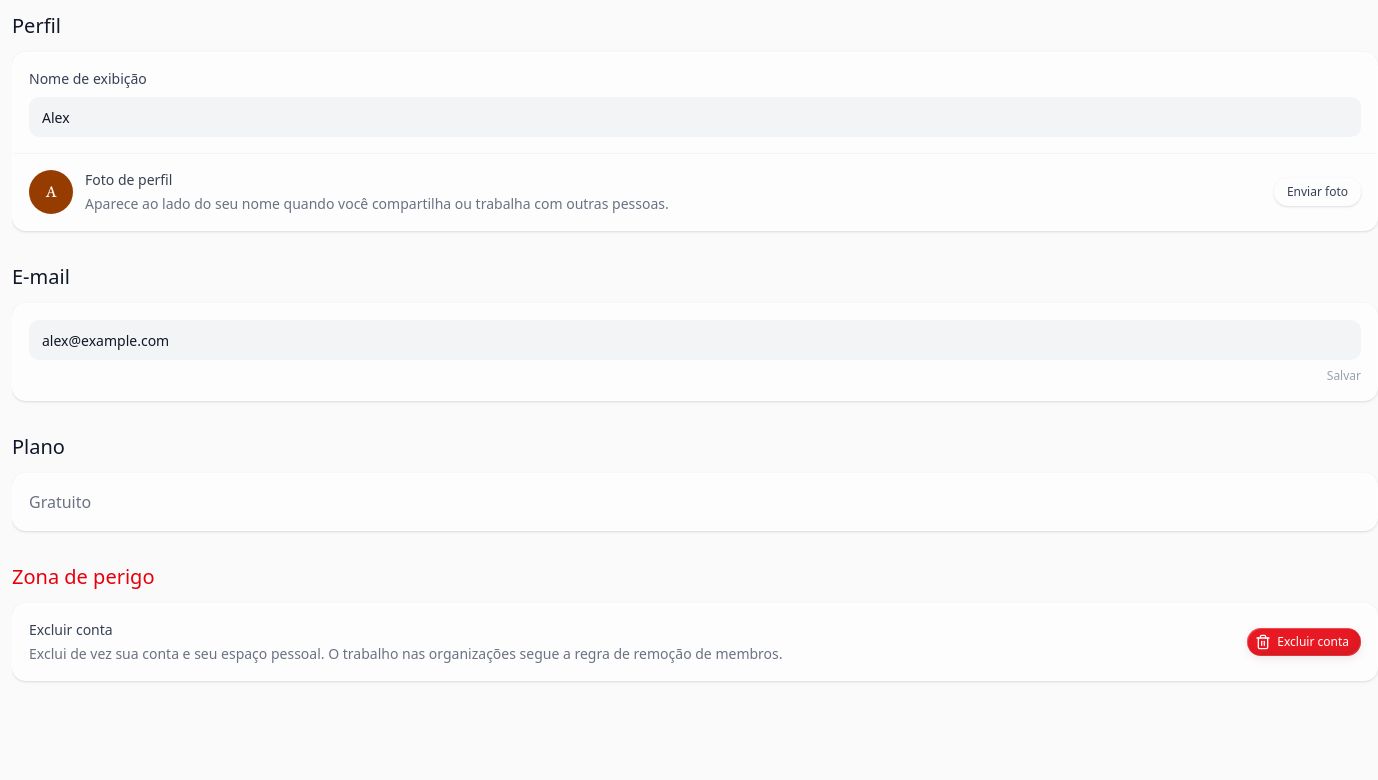
SettingsPage Google email changes › recognises a taken address by its code, not by its wording
Replace the text in the field with placeholder "Digite seu e-mail" with "new@example.com" at (695, 340), box [29, 320, 1361, 360]
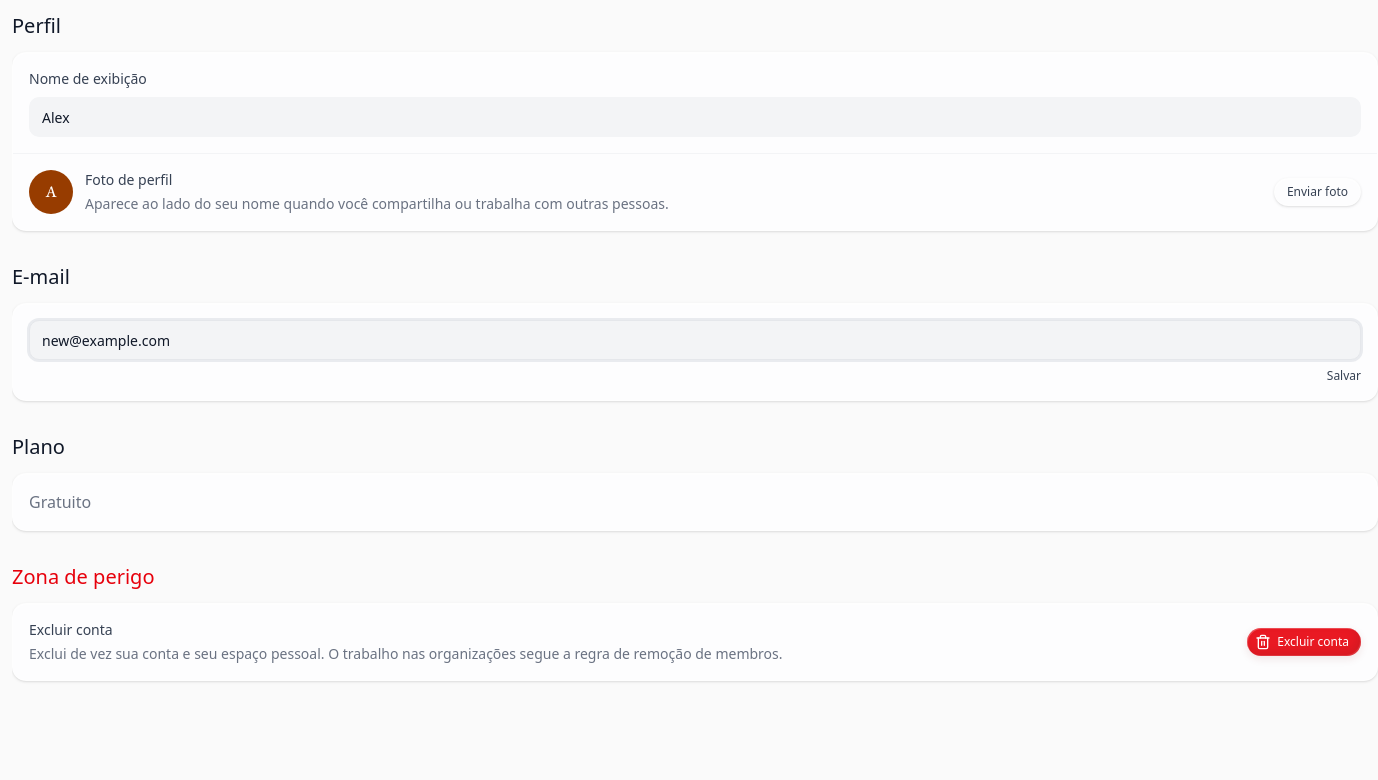
Click the button "Salvar" at (1344, 376), box [1327, 368, 1361, 384]
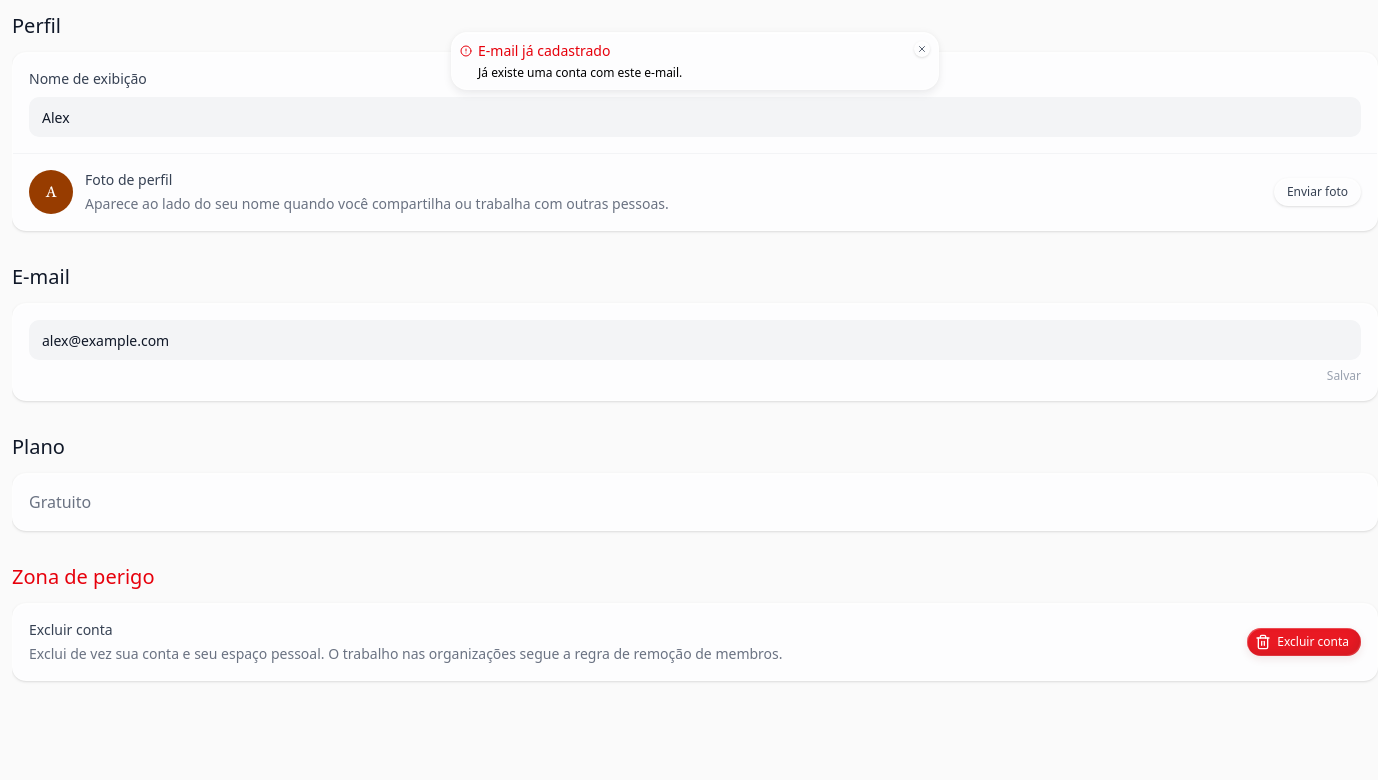
Expected: the text "Já existe uma conta com este e-mail." is shown, [478, 64, 682, 81]
